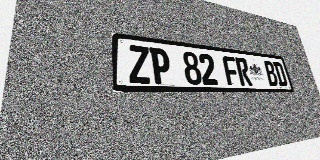2: (198, 53, 218, 85)
8: (182, 51, 203, 85)
B: (263, 60, 279, 86)
D: (273, 61, 288, 86)
F: (222, 56, 241, 86)
P: (149, 47, 172, 84)
R: (235, 57, 253, 86)
Z: (128, 45, 152, 84)
